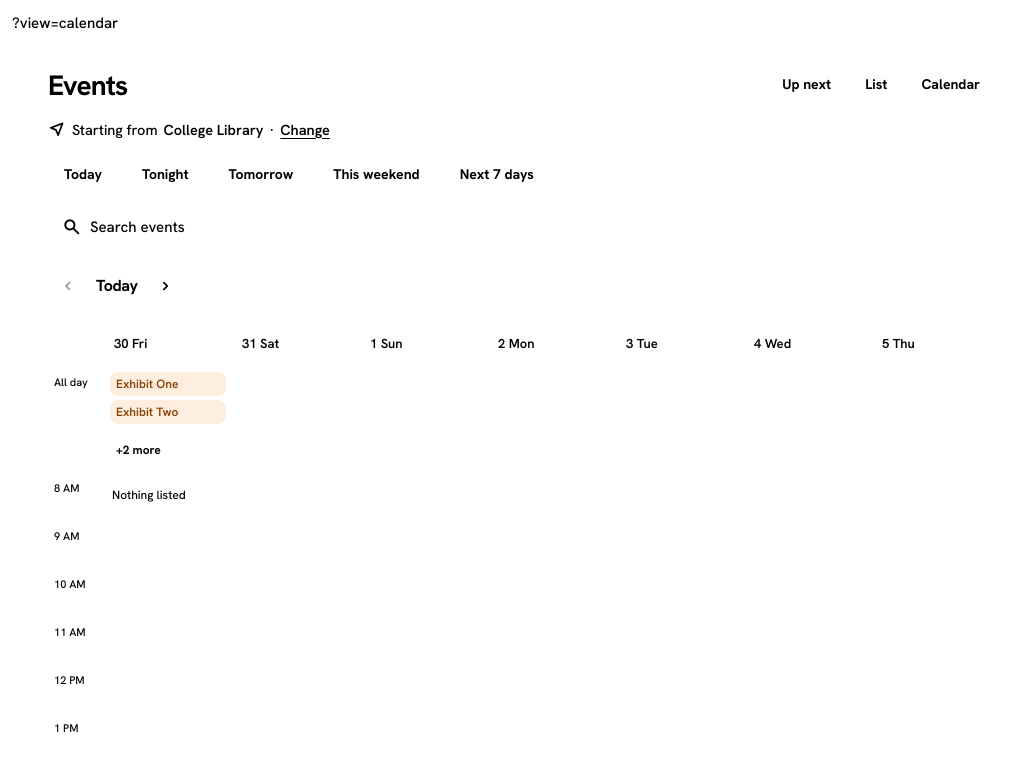
EventsPage › shows two all-day chips and expands the rest
Click the button with aria-label "Show 2 more all-day events" at (168, 450), box [110,428,226,472]
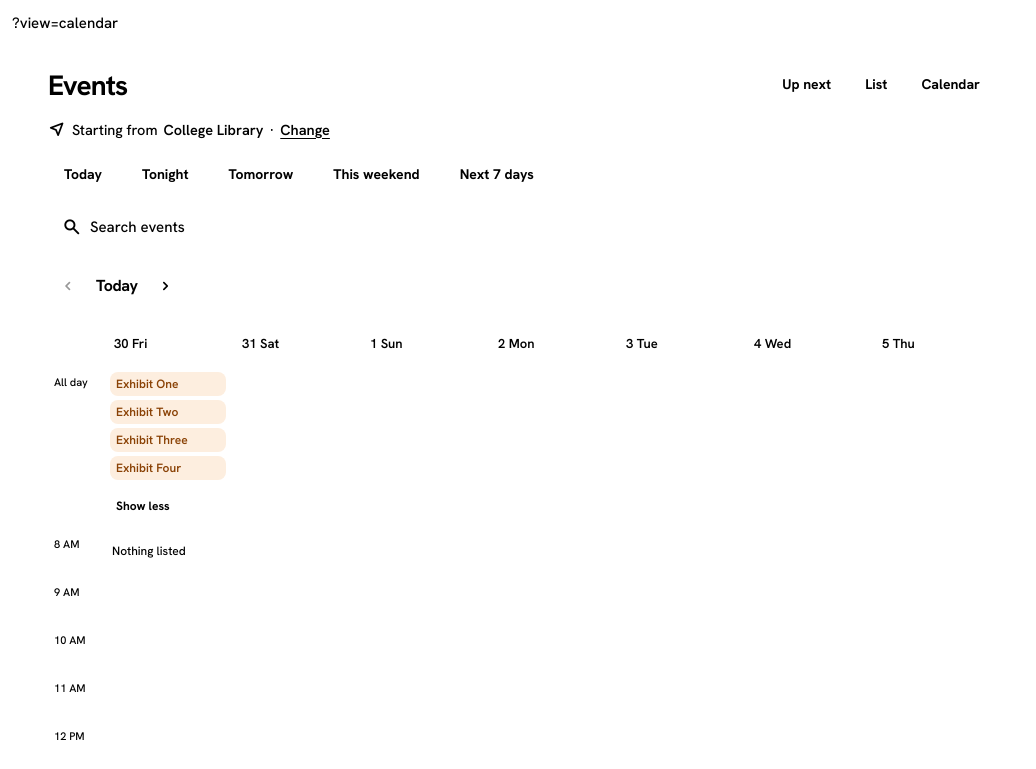
Check: the button "Show less" is shown, box [110,484,226,528]
